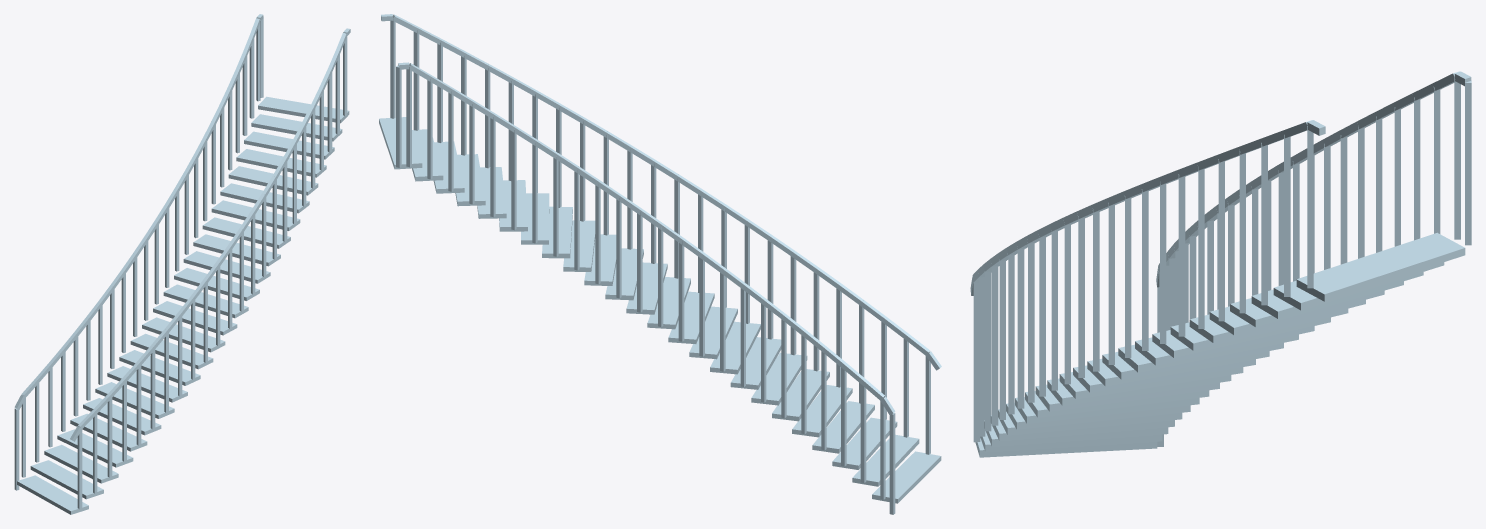
Rendered from exterior_stair_lod1.glb.
3 renders of one model, left to right at view 1: azimuth 30°, elevation 25°; view 2: azimuth 150°, elevation 25°; view 3: azimuth 270°, elevation 25°, orthographic. The views are drawn at different scales.
Visible parts, largest first — view 1: Stair tread 0 (×24), Stair rail out 0 (×15), Stair rail in 0 (×15); view 2: Stair tread 0 (×24), Stair rail in 0 (×3), Stair rail out 0; view 3: Stair tread 0 (×24), Stair rail out 0 (×24), Stair rail in 0 (×15).
Boxes of the visible parts, bbox=[...] form: Stair tread 0 (×24): bbox=[17, 96, 349, 514]; Stair rail out 0 (×15): bbox=[77, 71, 332, 509]; Stair rail in 0 (×15): bbox=[14, 37, 254, 490]; Stair tread 0 (×24): bbox=[379, 117, 941, 503]; Stair rail in 0 (×3): bbox=[678, 241, 895, 514]; Stair rail out 0: bbox=[413, 30, 419, 130]; Stair tread 0 (×24): bbox=[975, 232, 1465, 457]; Stair rail out 0 (×24): bbox=[973, 126, 1313, 442]; Stair rail in 0 (×15): bbox=[1189, 77, 1471, 319].
Size of the model in its own units: 5.33 by 4.63 by 3.08.
